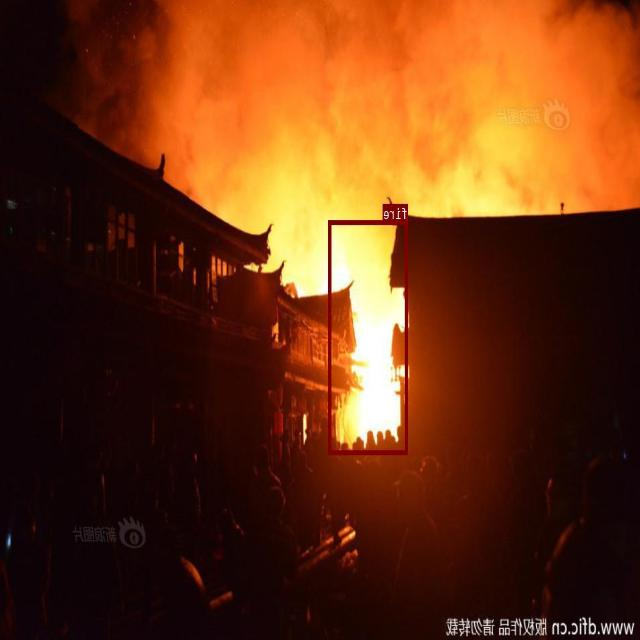fire: (329, 219, 409, 454)
